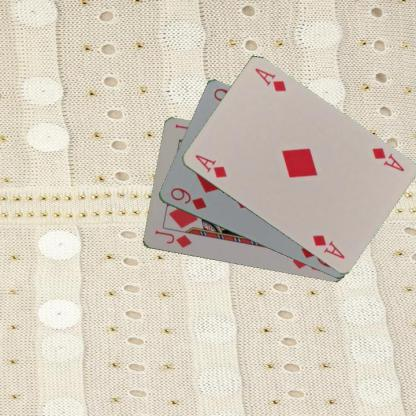9d: (167, 185, 209, 211)
Ad: (369, 145, 405, 173), (192, 152, 228, 179)
Jd: (152, 228, 192, 250)
